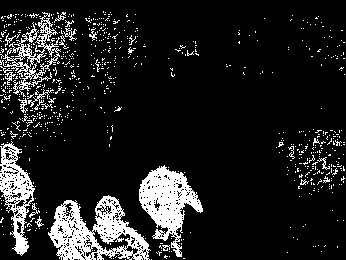person: (139, 165, 203, 260), (1, 144, 42, 255), (94, 195, 151, 259), (49, 199, 97, 260)
